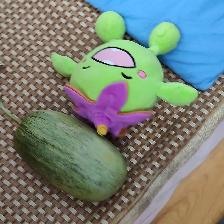gua: (17, 113, 109, 186)
